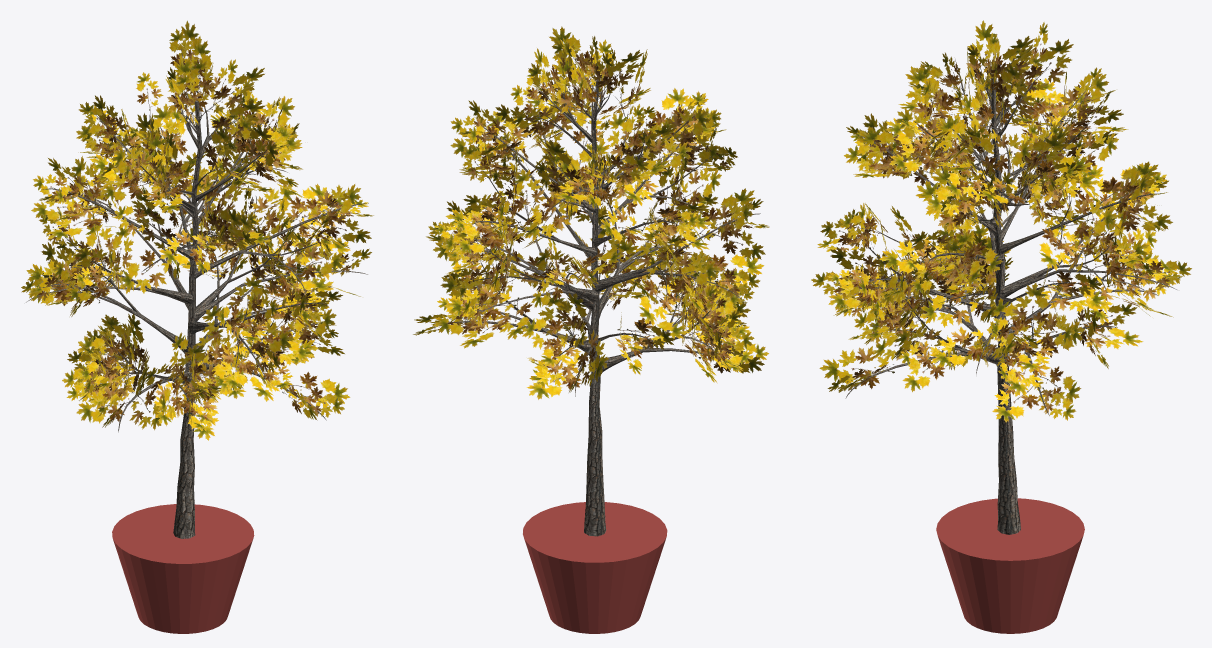
The model's file is potted_maple_tree17.dae.
The picture shows the model from 3 angles, left to right: view 1: azimuth 30°, elevation 25°; view 2: azimuth 150°, elevation 25°; view 3: azimuth 270°, elevation 25°; orthographic projection. The views are drawn at different scales.
Visible parts, largest first — view 1: Cylinder; view 2: Cylinder; view 3: Cylinder.
Boxes of the visible parts, <box> form: Cylinder: <box>21,20,373,633</box>; Cylinder: <box>413,26,769,633</box>; Cylinder: <box>811,20,1191,633</box>.
Bounding box in the file's own units: 1.86 × 1.73 × 2.95.
Materials: 3 (3 with a texture image).
